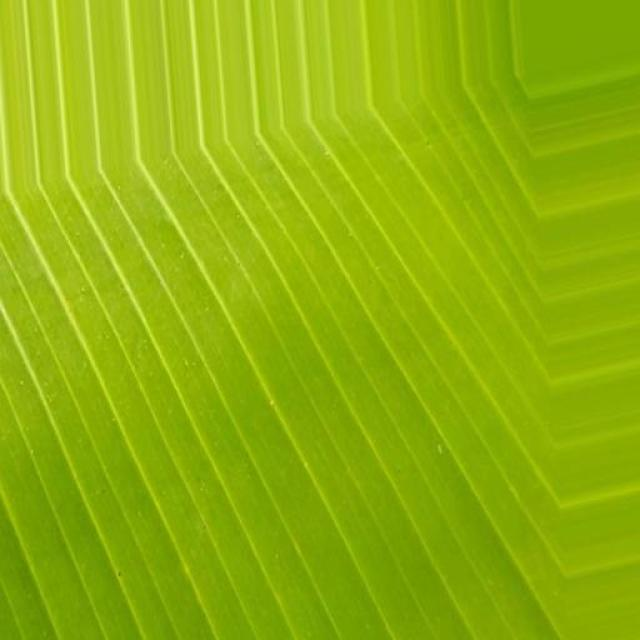Black_leaf_spot: (0, 0, 567, 613)
